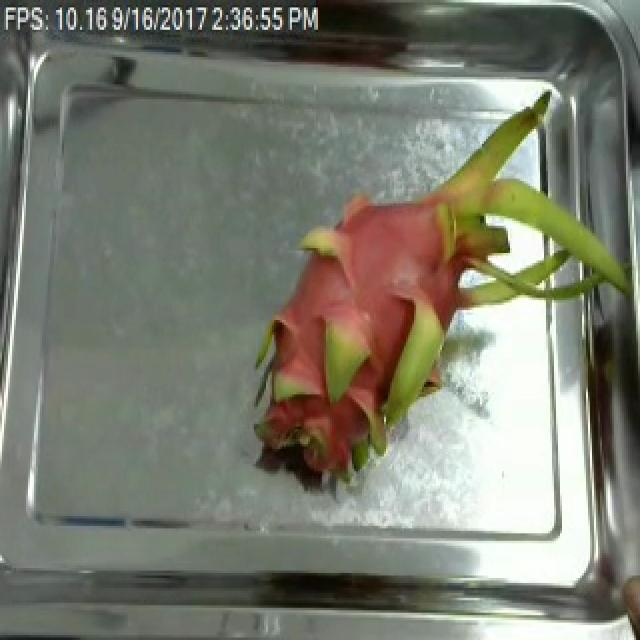fruit: (228, 109, 570, 519)
